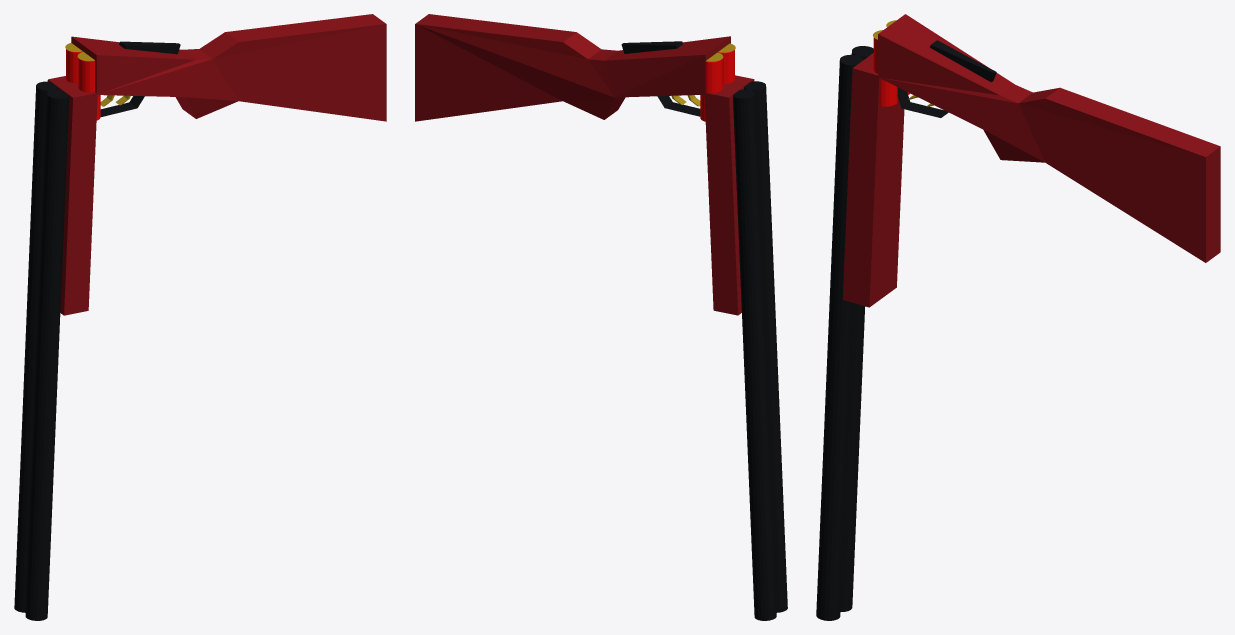
File: double-barreled-shotgun0019.obj
The picture shows the model from 3 angles, left to right: view 1: azimuth 30°, elevation 25°; view 2: azimuth 150°, elevation 25°; view 3: azimuth 330°, elevation 25°; orthographic projection. The views are drawn at different scales.
Visible parts, largest first — view 1: rearStock, leftBarrel, foreGrip, rightBarrel, shellPlastic, topLatch; view 2: rearStock, rightBarrel, foreGrip, leftBarrel, shellPlastic2, topLatch; view 3: rearStock, foreGrip, leftBarrel, rightBarrel, topLatch, shellPlastic, triggerGuard.
Boxes of the visible parts, x1,y1,x2,y2 form: rearStock: [71, 14, 386, 121]; leftBarrel: [25, 89, 69, 620]; foreGrip: [47, 76, 97, 315]; rightBarrel: [14, 81, 58, 612]; shellPlastic: [78, 58, 100, 120]; topLatch: [119, 41, 180, 54]; rearStock: [415, 14, 730, 121]; rightBarrel: [733, 89, 776, 620]; foreGrip: [704, 75, 754, 315]; leftBarrel: [744, 81, 787, 612]; shellPlastic2: [700, 59, 722, 121]; topLatch: [621, 41, 682, 53]; rearStock: [878, 14, 1220, 262]; foreGrip: [842, 53, 904, 307]; leftBarrel: [816, 54, 863, 620]; rightBarrel: [840, 46, 873, 611]; topLatch: [930, 40, 996, 82]; shellPlastic: [873, 38, 897, 106]; triggerGuard: [897, 87, 948, 117].
Size of the model in its own units: 1.68 by 2.48 by 0.2057.
